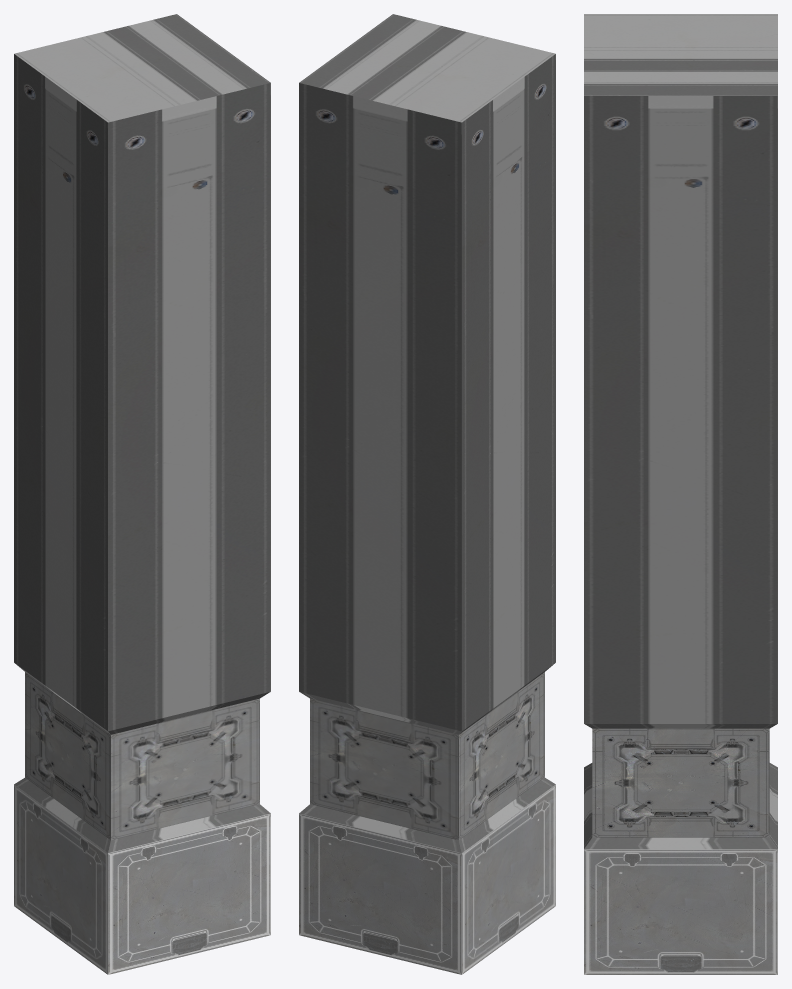
The model's file is SM_PillarC2.fbx.
3 views of the same model, side by side, from view 1: azimuth 30°, elevation 25°; view 2: azimuth 150°, elevation 25°; view 3: azimuth 270°, elevation 25° (orthographic). The views are drawn at different scales.
Visible parts, largest first — view 1: SM_PillarC2_LOD0; view 2: SM_PillarC2_LOD0; view 3: SM_PillarC2_LOD0.
Boxes of the visible parts, left/top/right/bottom form: SM_PillarC2_LOD0: left=14, top=14, right=270, bottom=974; SM_PillarC2_LOD0: left=299, top=14, right=555, bottom=974; SM_PillarC2_LOD0: left=584, top=14, right=777, bottom=974.
Size of the model in its own units: 80 by 80 by 400.
3 materials, 3 textured.
